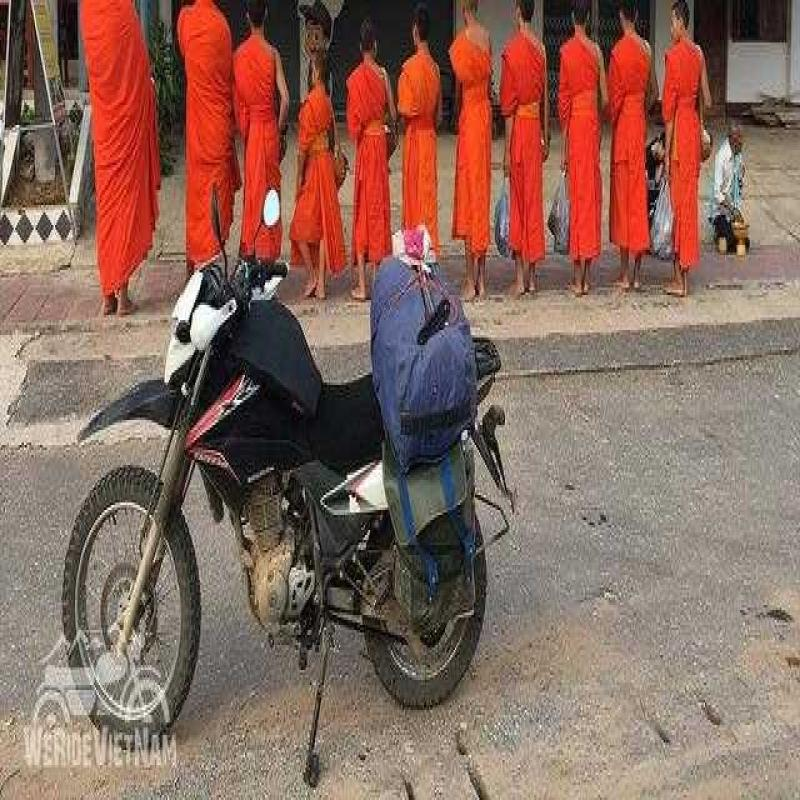bike: (68, 188, 493, 718)
